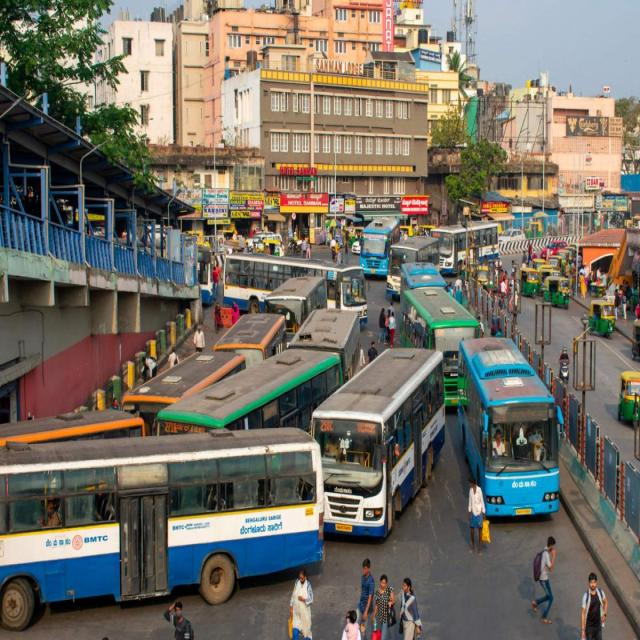autorickshaw: (615, 368, 640, 458), (586, 293, 622, 339), (544, 276, 570, 309), (520, 268, 540, 296)
bus: (0, 429, 323, 631), (312, 347, 445, 537), (458, 339, 560, 518), (156, 349, 340, 435), (224, 253, 368, 324), (121, 353, 249, 429), (401, 287, 479, 407), (289, 309, 360, 382), (210, 309, 290, 361), (264, 278, 326, 341), (430, 221, 499, 275), (386, 236, 439, 297), (358, 217, 395, 281), (403, 264, 455, 291)
car: (541, 237, 568, 257)
motorcycle: (555, 345, 577, 390)
